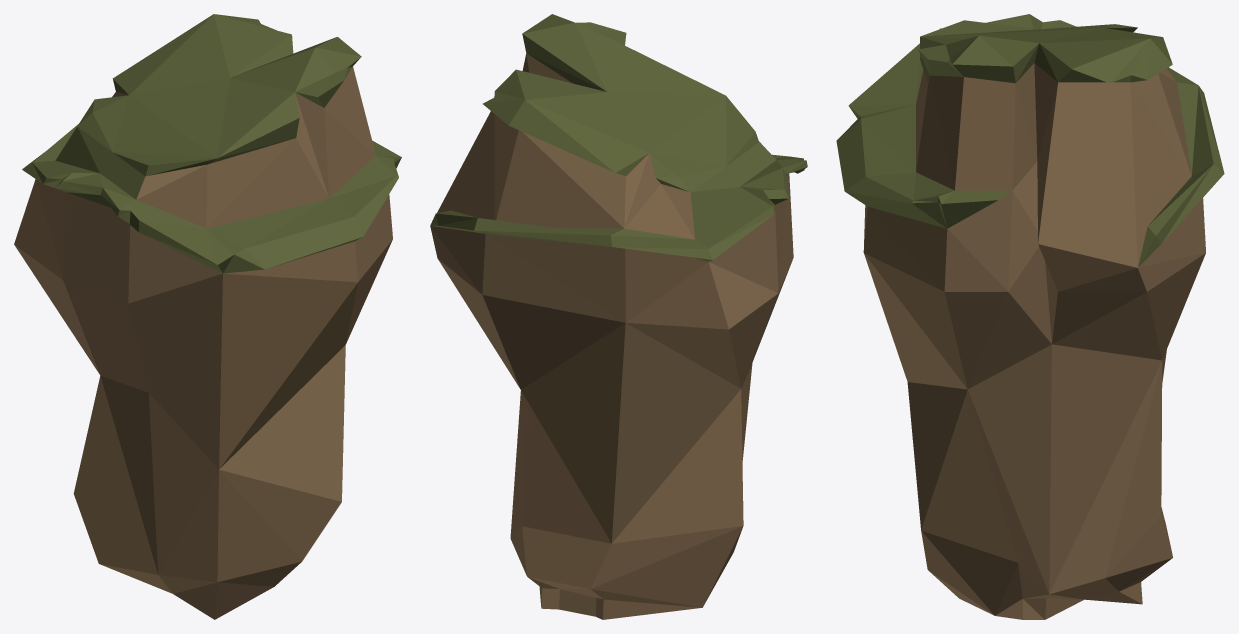
Rendered from rock_b.glb.
3 renders of one model, left to right at view 1: azimuth 30°, elevation 25°; view 2: azimuth 150°, elevation 25°; view 3: azimuth 270°, elevation 25°, orthographic. The views are drawn at different scales.
Visible parts, largest first — view 1: SM_Env_Rock_03; view 2: SM_Env_Rock_03; view 3: SM_Env_Rock_03.
Part boxes in pixels (x1,y1,x2,y2): SM_Env_Rock_03: (14, 14, 401, 619); SM_Env_Rock_03: (430, 14, 807, 619); SM_Env_Rock_03: (836, 14, 1224, 619).
Bounding box in the file's own units: 129 × 215 × 124.
1 material, 1 textured.
